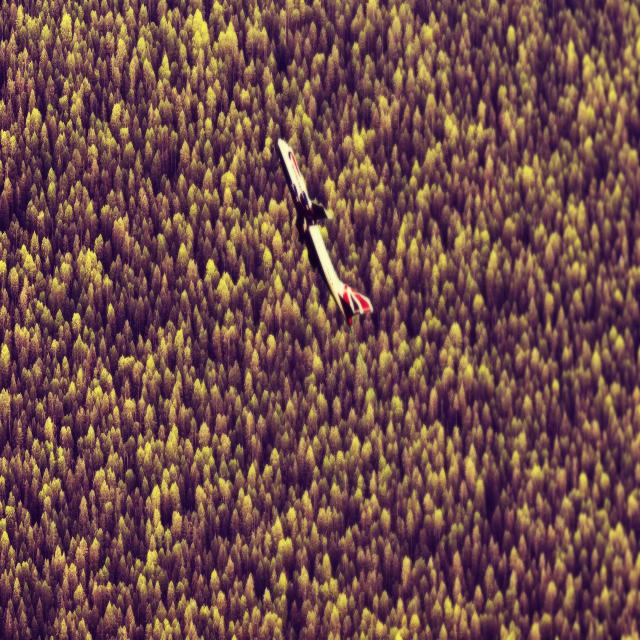airplane: (275, 136, 374, 328)
